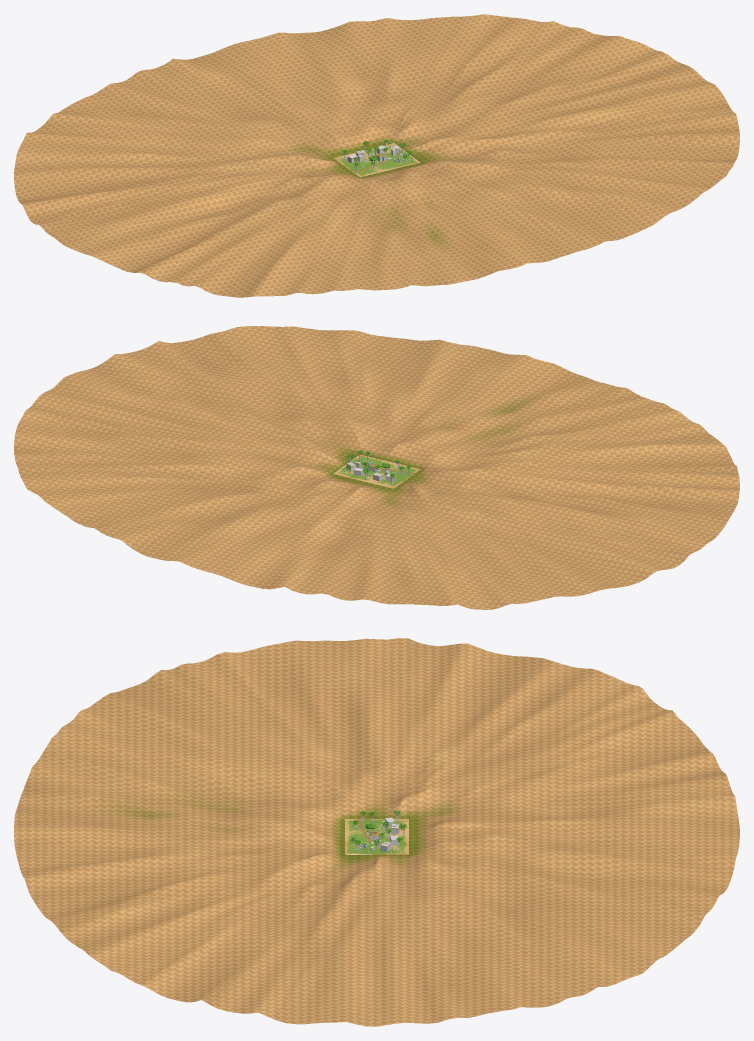
Rendered from nile-village.glb.
3 renders of one model, top to bottom at view 1: azimuth 30°, elevation 25°; view 2: azimuth 150°, elevation 25°; view 3: azimuth 270°, elevation 25°, orthographic. The views are drawn at different scales.
Parts seen in each view (by area): view 1: ground_far, ground; view 2: ground_far, ground; view 3: ground_far, ground.
Boxes of the visible parts, left/top/right/bottom form: ground_far: left=14, top=14, right=739, bottom=297; ground: left=334, top=143, right=419, bottom=176; ground_far: left=14, top=326, right=739, bottom=609; ground: left=334, top=455, right=419, bottom=488; ground_far: left=14, top=638, right=739, bottom=1026; ground: left=345, top=818, right=408, bottom=854.
Size of the model in its own units: 992 by 15.89 by 790.
23 materials, 17 textured.
